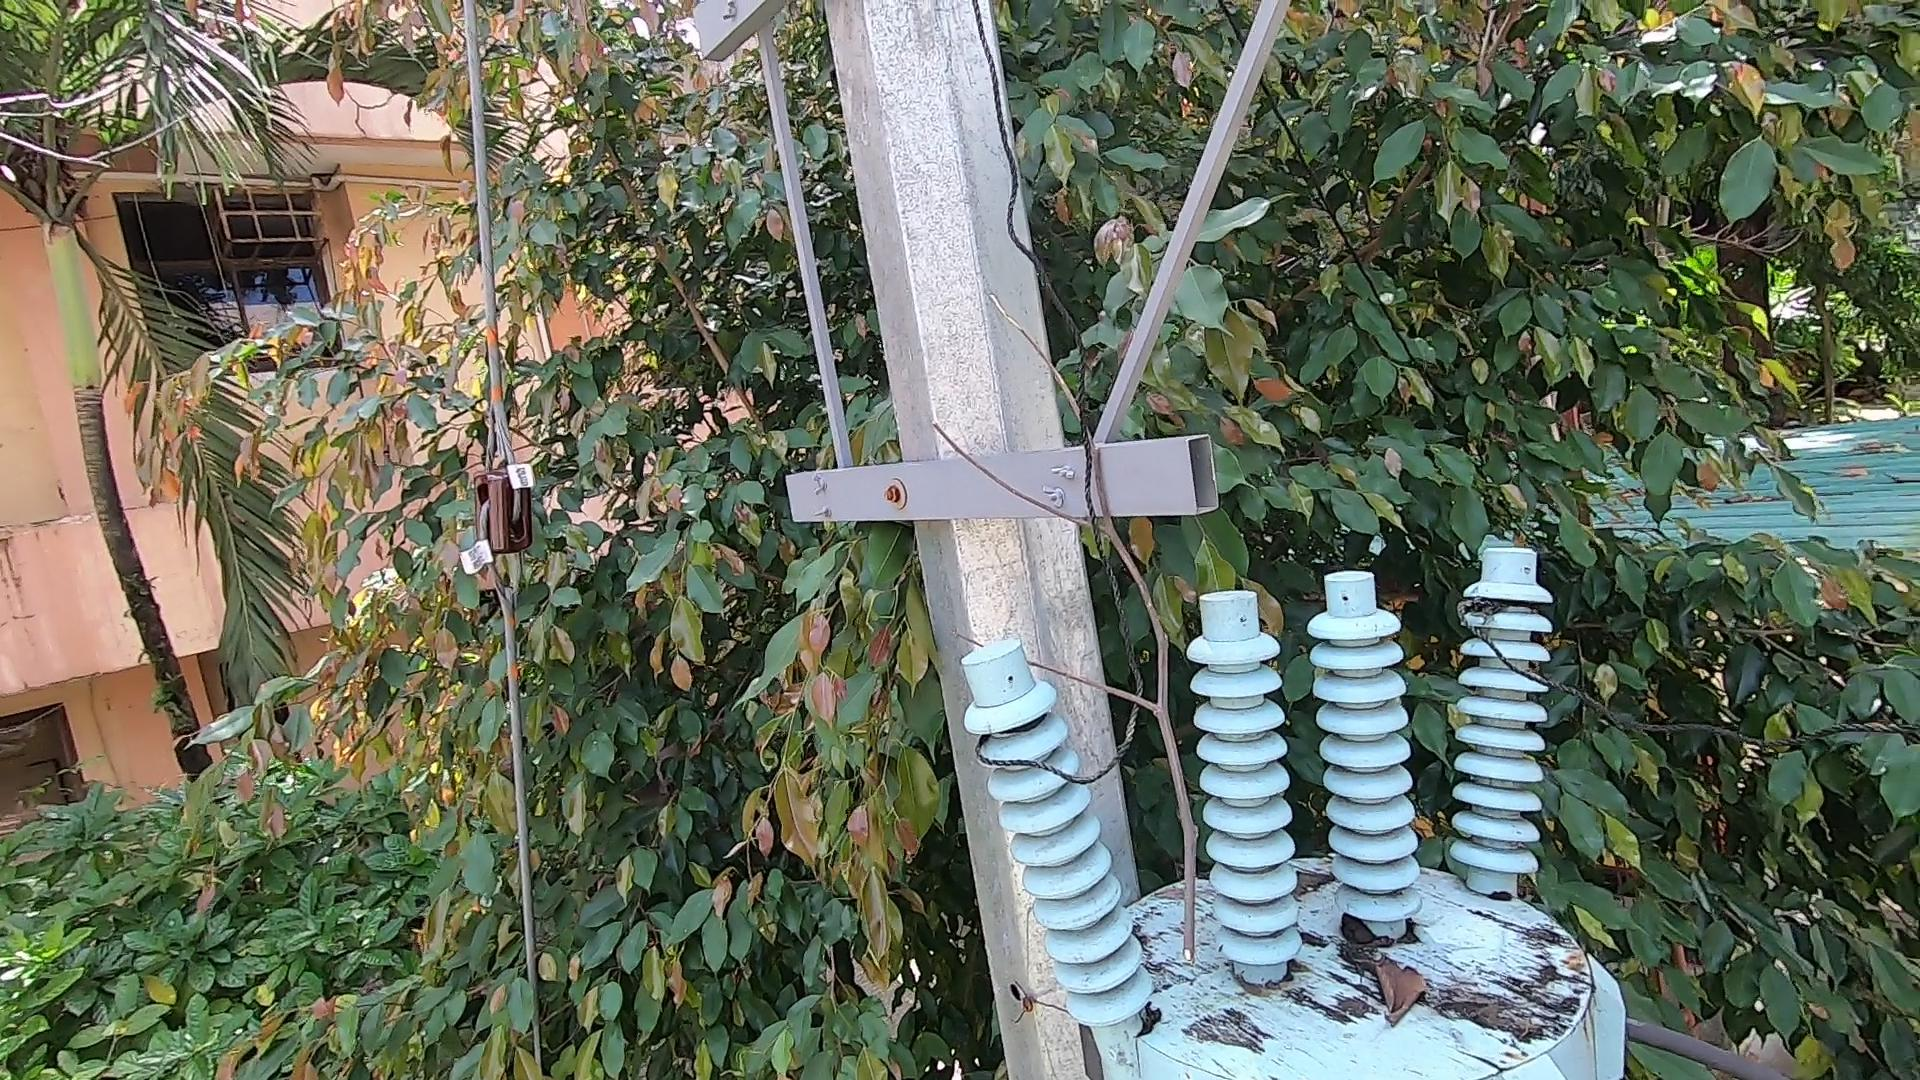leaf: (1365, 952, 1429, 1034), (1336, 909, 1383, 978)
tree branch: (902, 264, 1226, 975)
